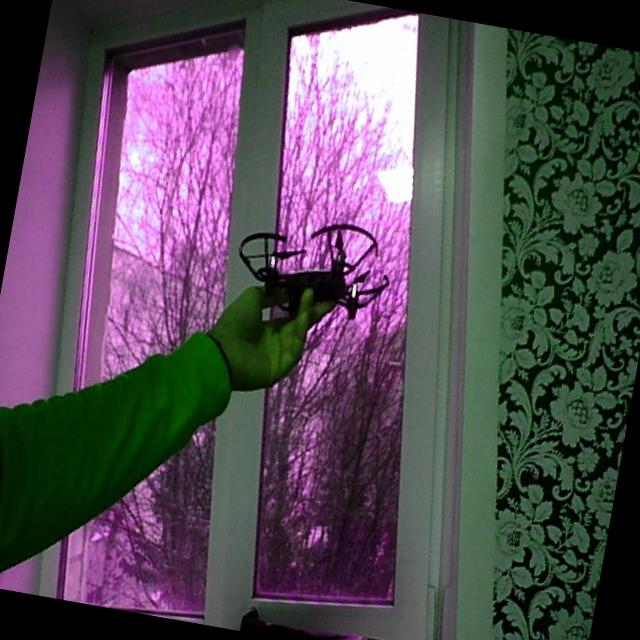drone: (220, 200, 404, 344)
